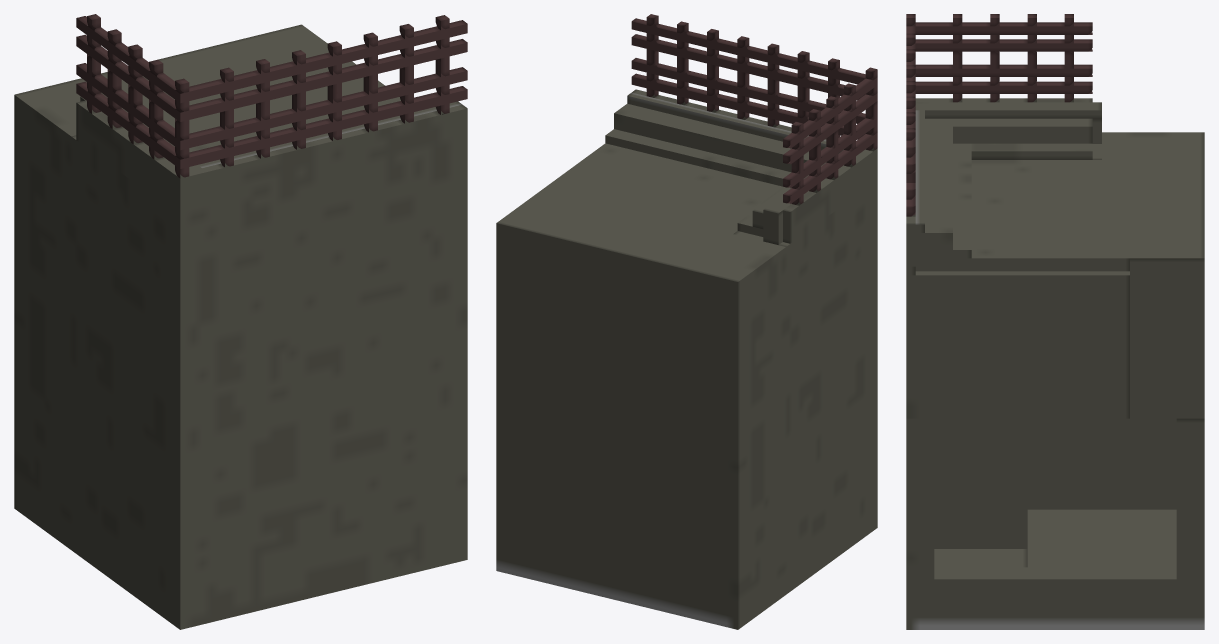
Rendered from res_tył_5.dae.
The picture shows the model from 3 angles, left to right: view 1: azimuth 30°, elevation 25°; view 2: azimuth 150°, elevation 25°; view 3: azimuth 270°, elevation 25°; orthographic projection. The views are drawn at different scales.
Visible parts, largest first — view 1: Content; view 2: Content; view 3: Content.
Boxes of the visible parts, bbox=[...] form: Content: bbox=[14, 14, 467, 629]; Content: bbox=[496, 14, 877, 629]; Content: bbox=[906, 14, 1204, 629].
Size of the model in its own units: 32 by 58 by 32.
1 material, 1 textured.
